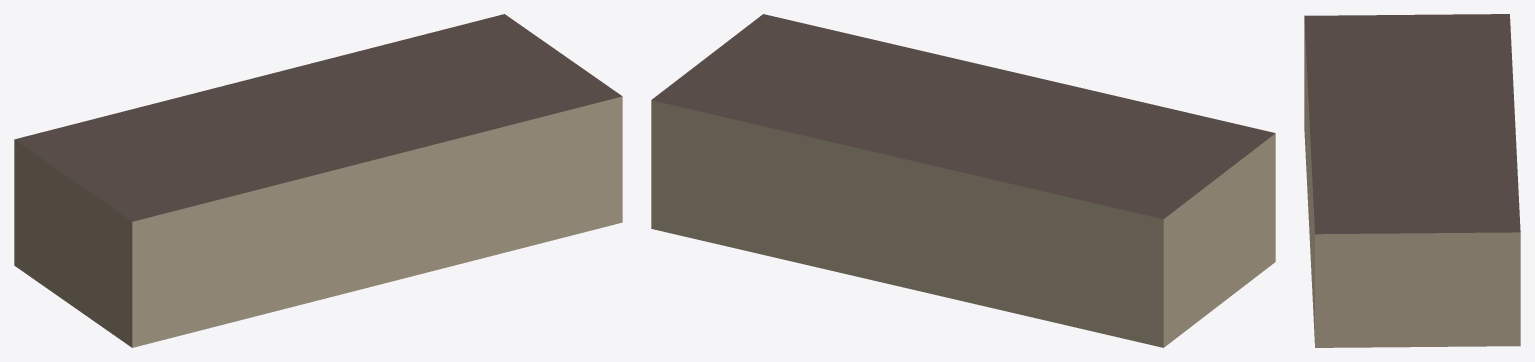
3 renders of one model, left to right at view 1: azimuth 30°, elevation 25°; view 2: azimuth 150°, elevation 25°; view 3: azimuth 270°, elevation 25°, orthographic. The views are drawn at different scales.
Parts seen in each view (by area): view 1: HP-w859488907; view 2: HP-w859488907; view 3: HP-w859488907.
Boxes of the visible parts, x1,y1,x2,y2 form: HP-w859488907: (14, 14, 622, 347); HP-w859488907: (651, 14, 1275, 347); HP-w859488907: (1304, 14, 1520, 347).
Bounding box in the file's own units: 37.36 × 9 × 15.5.
